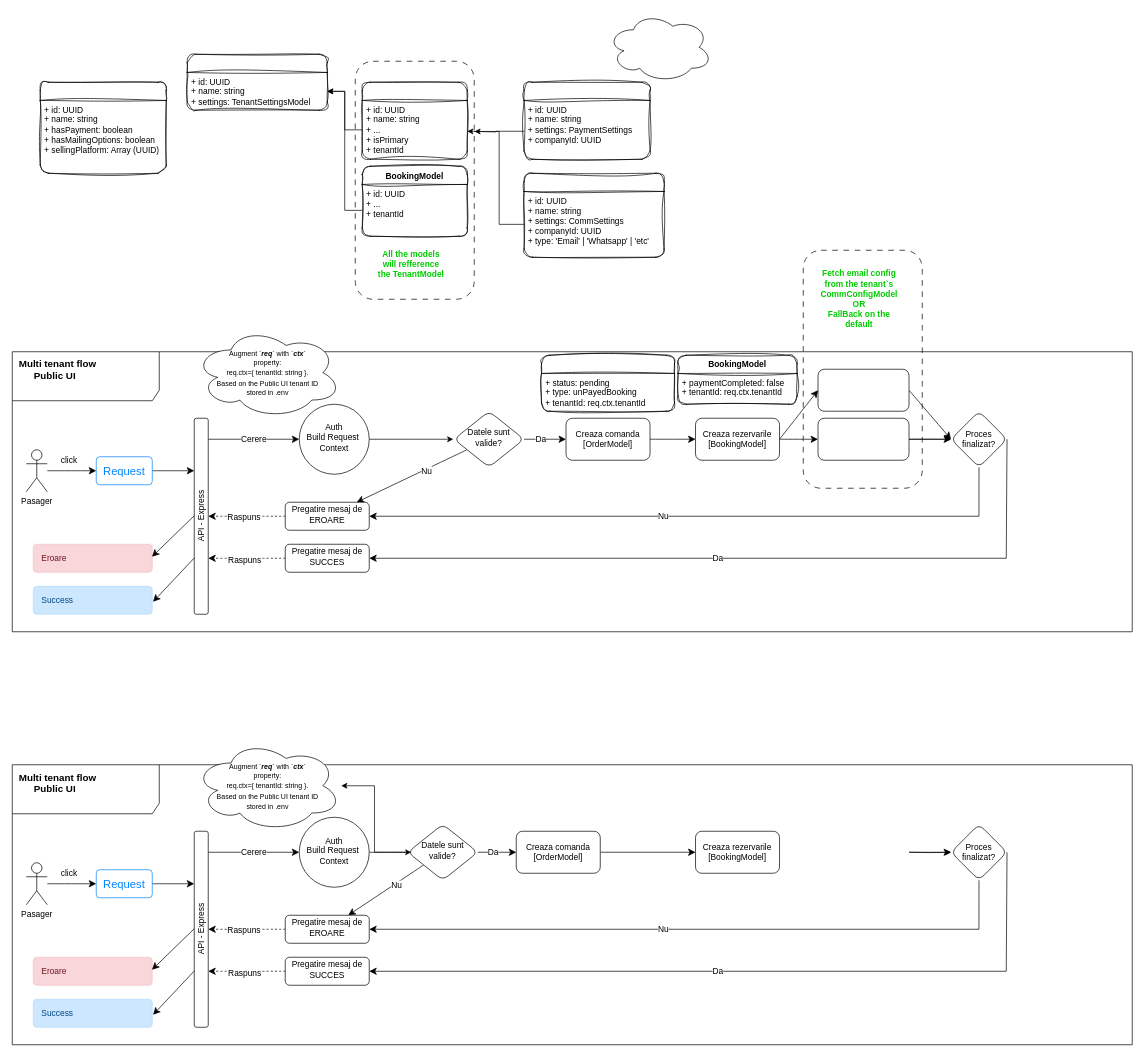
Image size: 1145x1057. Some labels were removed from this diagram. Each missing label, with the box of its shape:
CommConfigModel: (523, 173, 664, 257)
CompanyModel: (362, 82, 467, 159)
Email Trimite confirmarea rezervarii pasagerului: (817, 418, 909, 460)
Email Trimite link de plata la 5min: (817, 369, 909, 411)
OrderModel: (541, 355, 675, 411)
PaymentConfigModel: (523, 82, 650, 159)
Stores connection details of payment processors: (607, 12, 712, 82)
TenantModel: (187, 54, 327, 110)
TenantSettingsModel: (40, 82, 166, 173)
